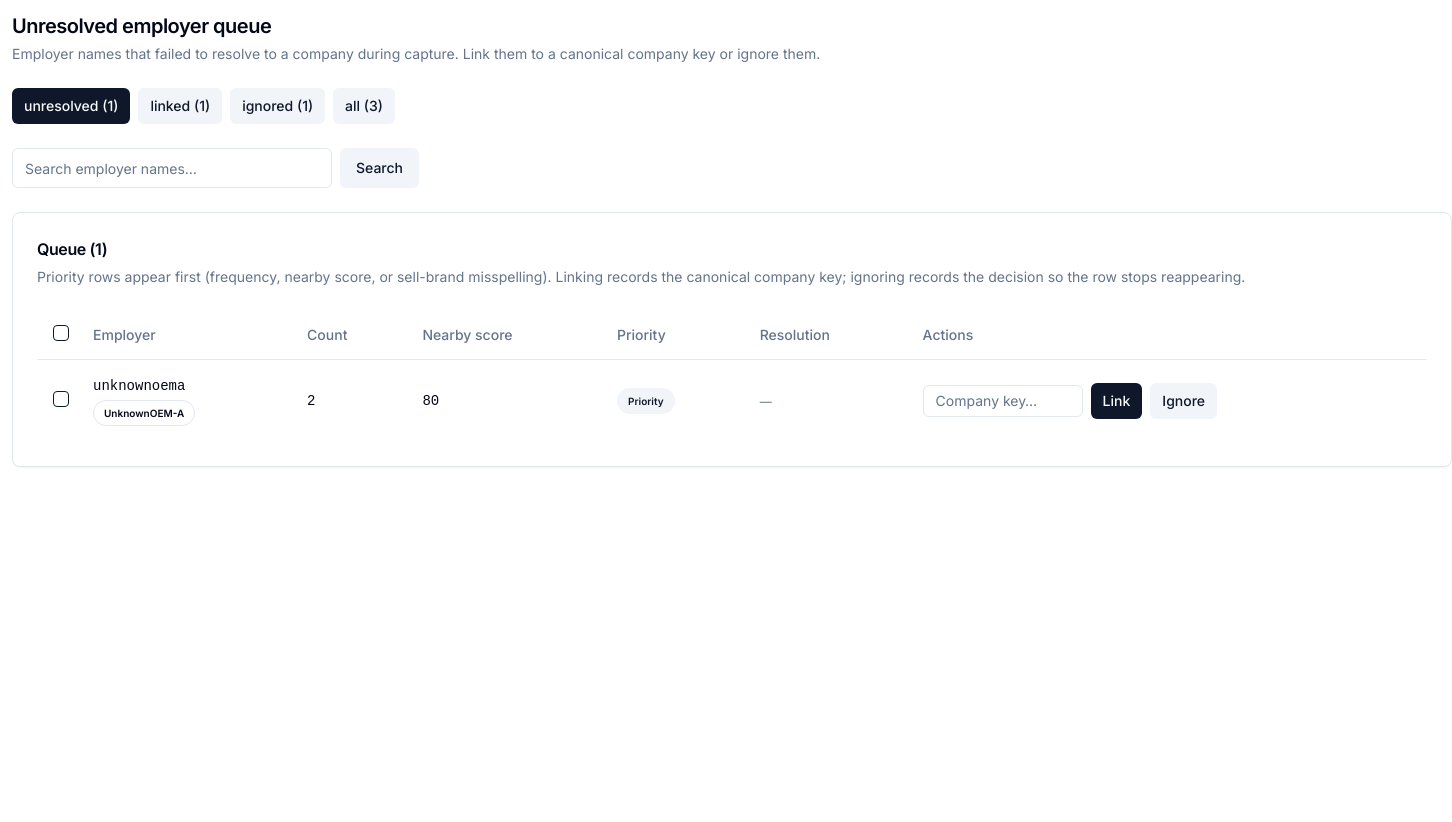
Test: SystemSettingsUnresolvedQueuePage › selects and deselects all visible rows via the master checkbox
Expected: the row with test id "unresolved-queue-row-unknownoema" is shown, [37, 359, 1427, 442]
Click the button with test id "unresolved-queue-tab-all". click: (364,106)
box: [333, 88, 395, 124]
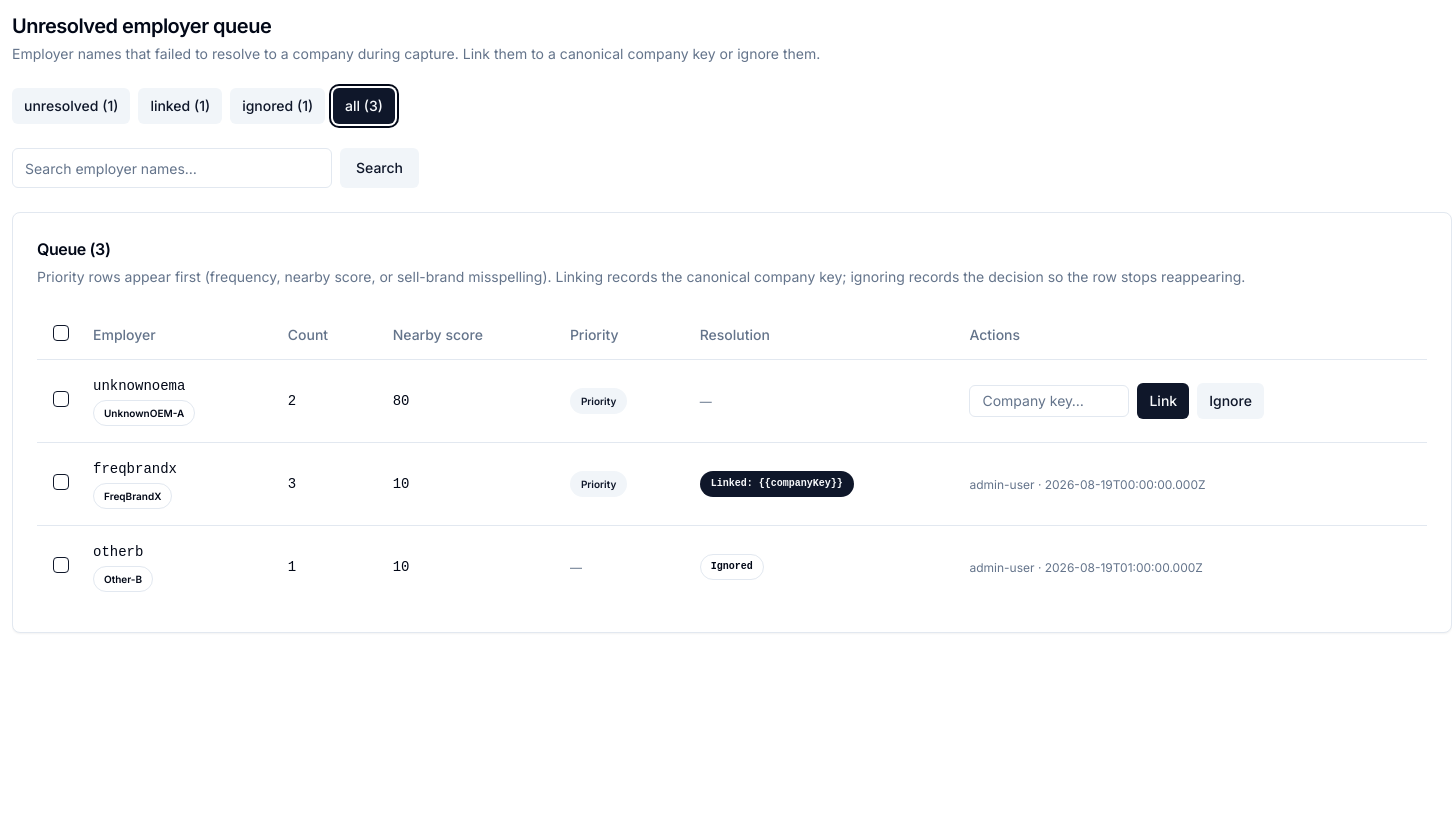
Result: the row with test id "unresolved-queue-row-otherb" is shown at [37, 525, 1427, 608]
Click the checkbox with test id "unresolved-queue-select-all". click: (61,333)
box: [53, 325, 69, 341]
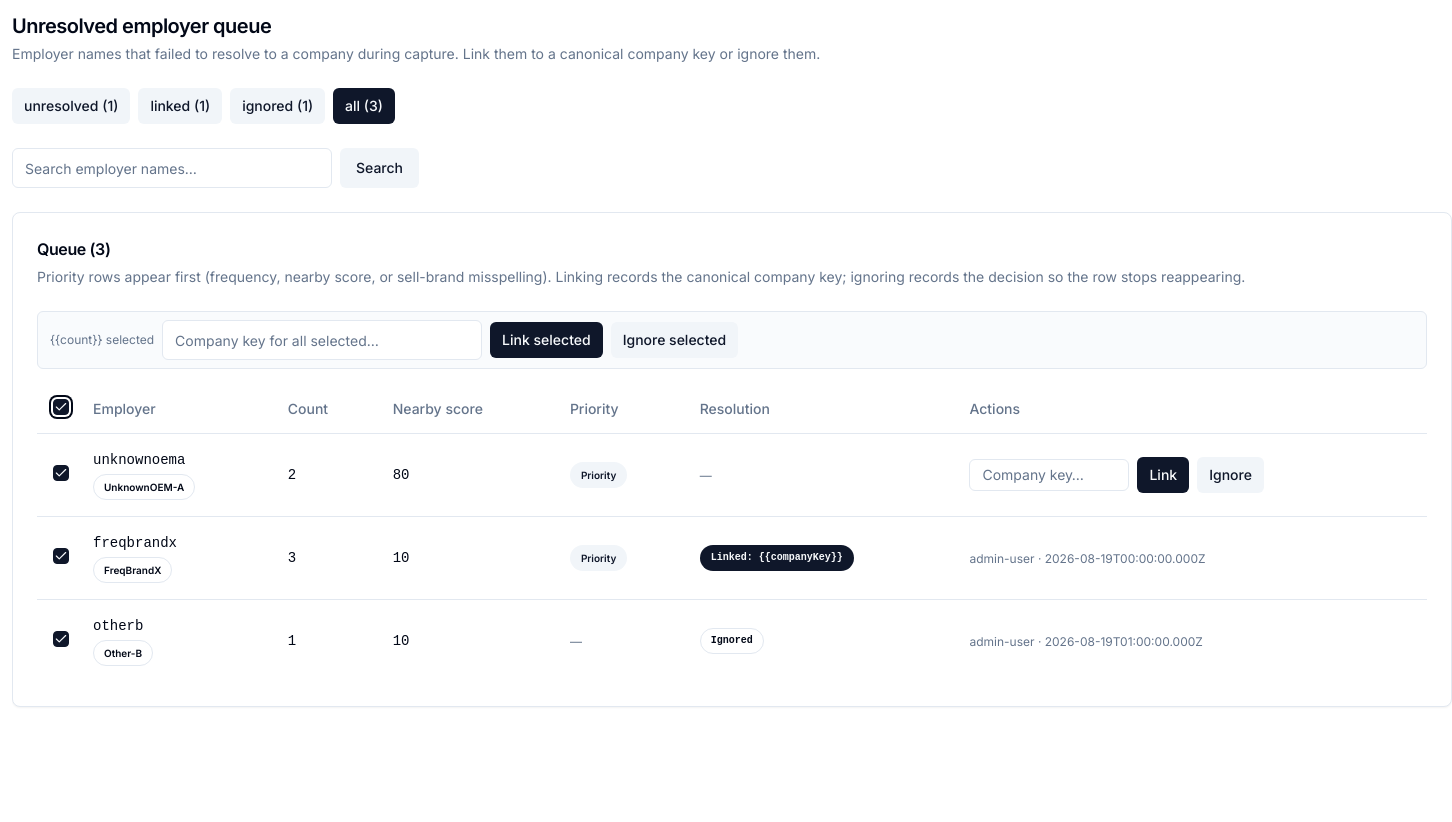
Result: the element with test id "unresolved-queue-bulk-bar" shows "{{count}} selected" at [50, 332, 154, 347]
Result: the checkbox with test id "unresolved-queue-select-unknownoema" is checked at [53, 464, 69, 480]
Result: the checkbox with test id "unresolved-queue-select-otherb" is checked at [53, 630, 69, 646]
Click the checkbox with test id "unresolved-queue-select-all". click: (61,407)
box: [53, 399, 69, 415]
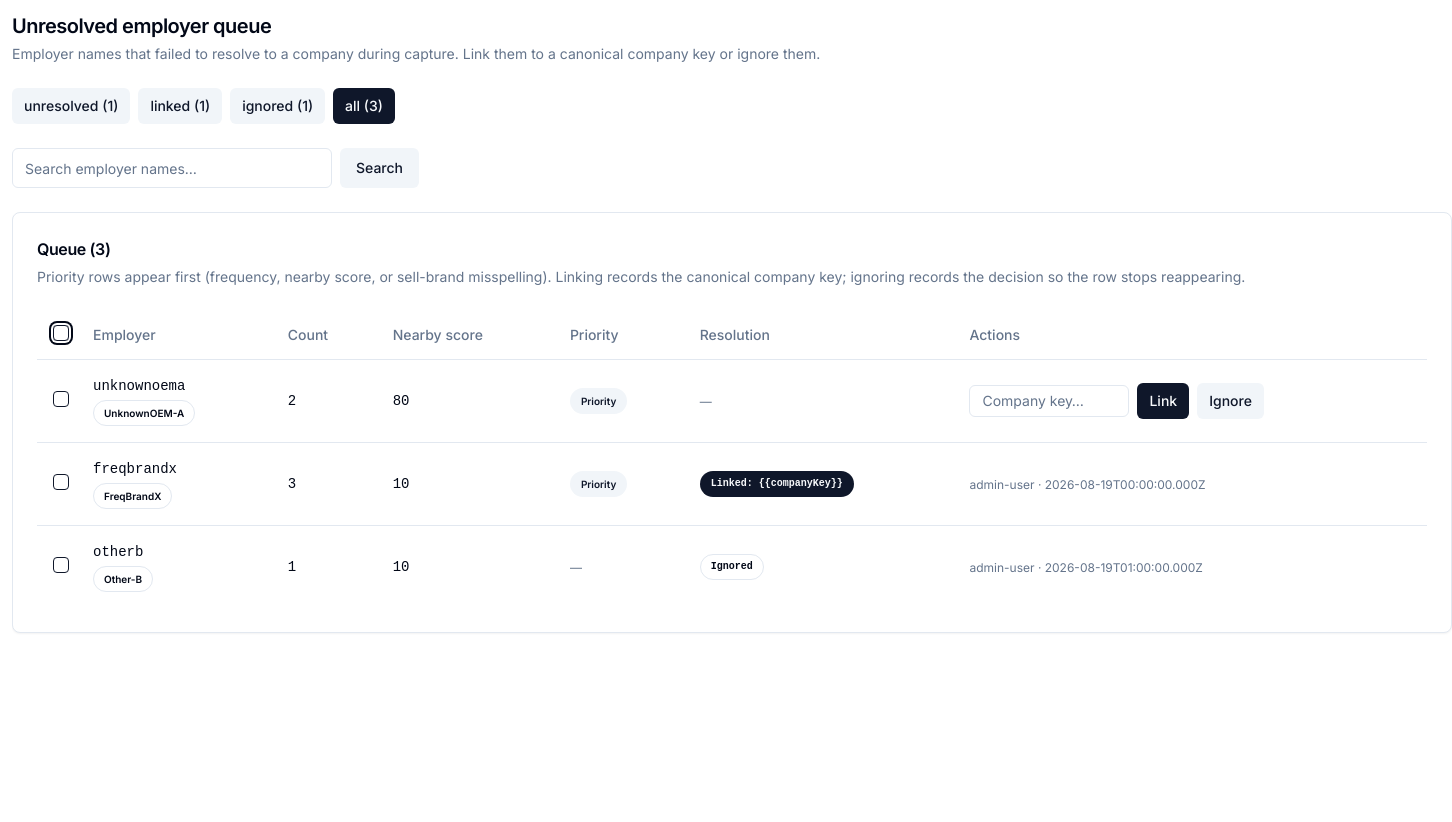
Result: the element with test id "unresolved-queue-bulk-bar" is gone
Result: the checkbox with test id "unresolved-queue-select-unknownoema" is not checked at [53, 390, 69, 406]
Result: the checkbox with test id "unresolved-queue-select-otherb" is not checked at [53, 556, 69, 572]
